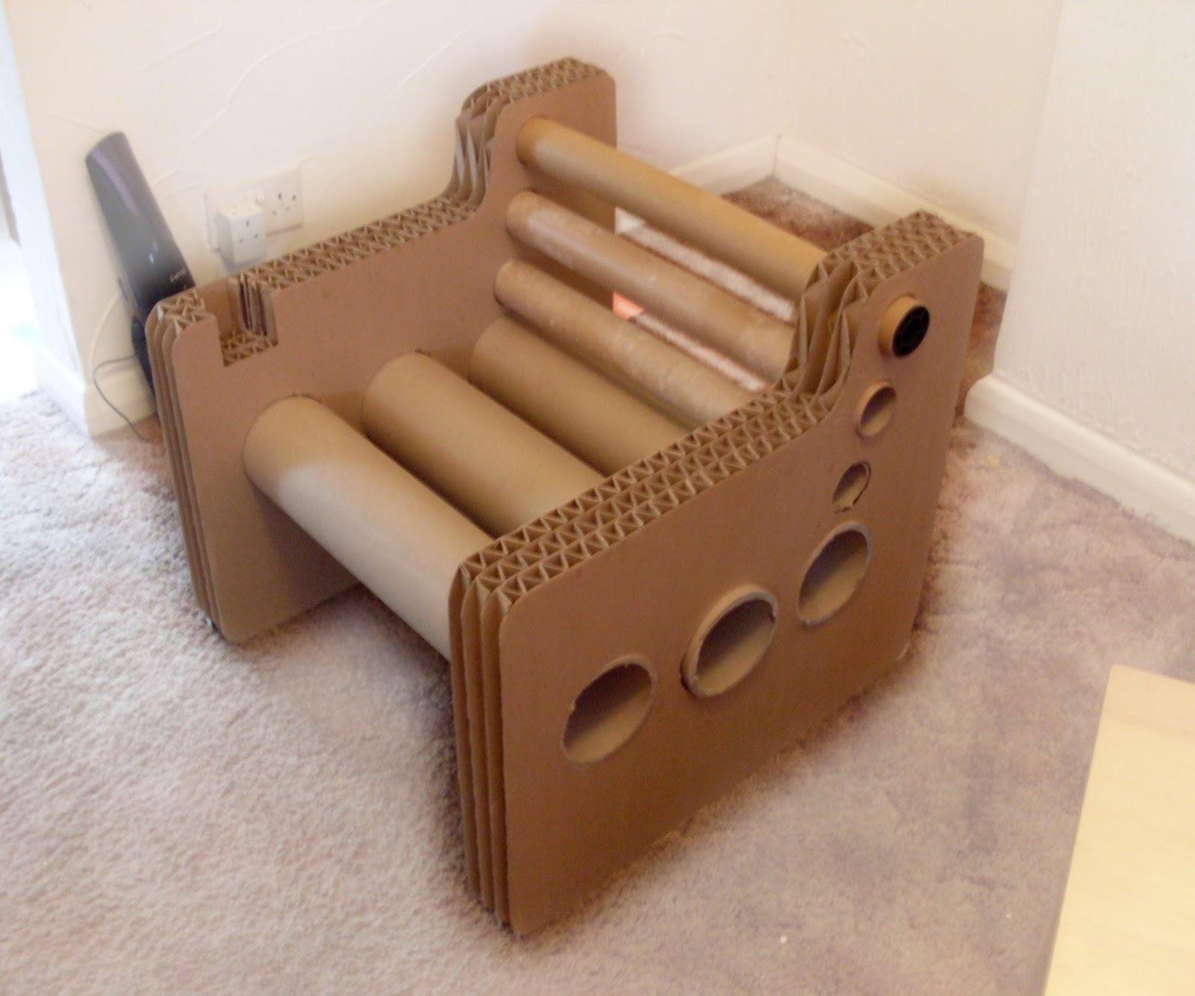cardboard: (64, 19, 1138, 994)
